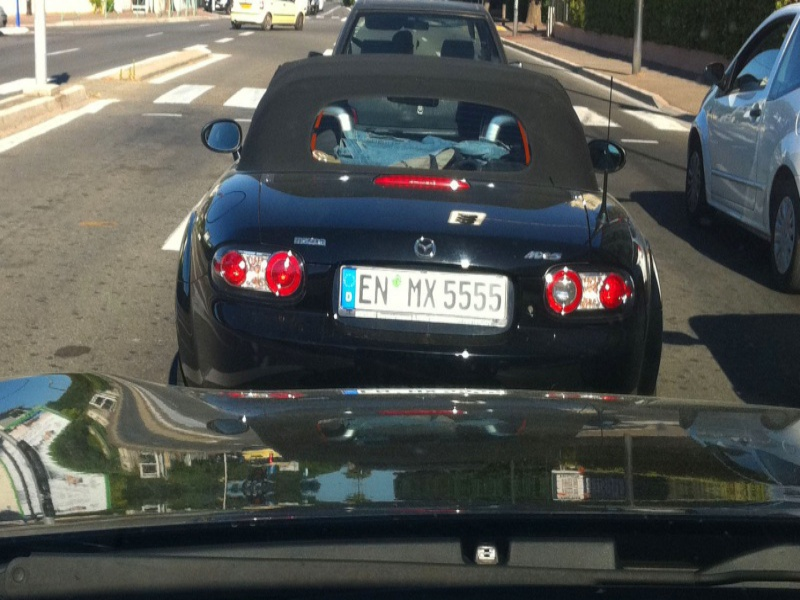licence_plate: (332, 250, 518, 335)
